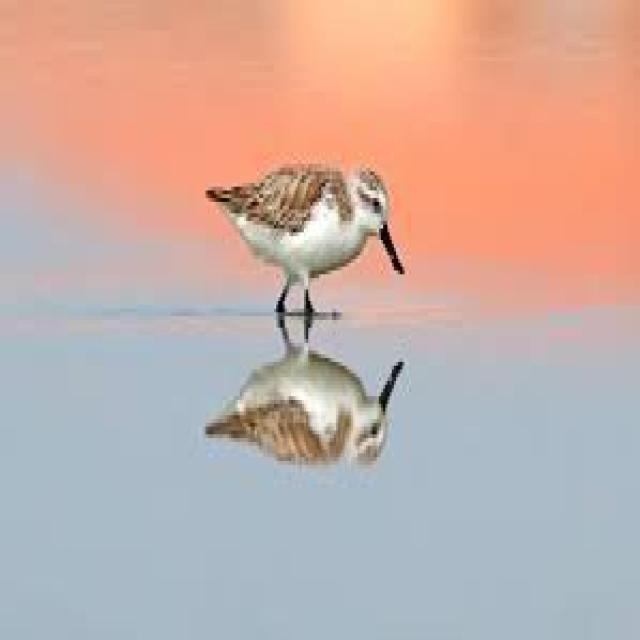Sandpiper: (212, 303, 403, 481), (212, 156, 403, 288)
